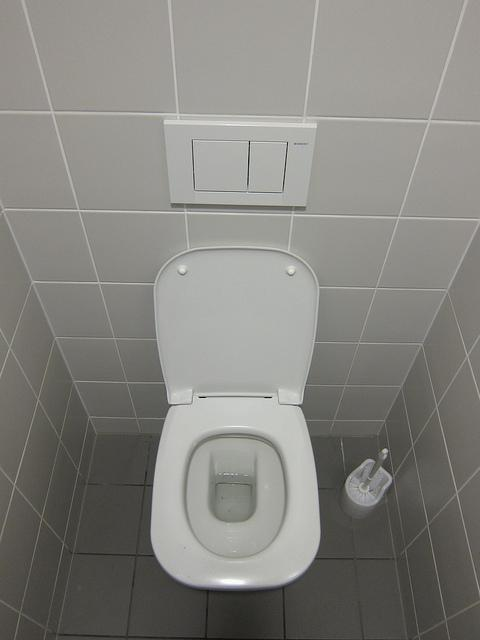Sanitario: (138, 245, 332, 600)
